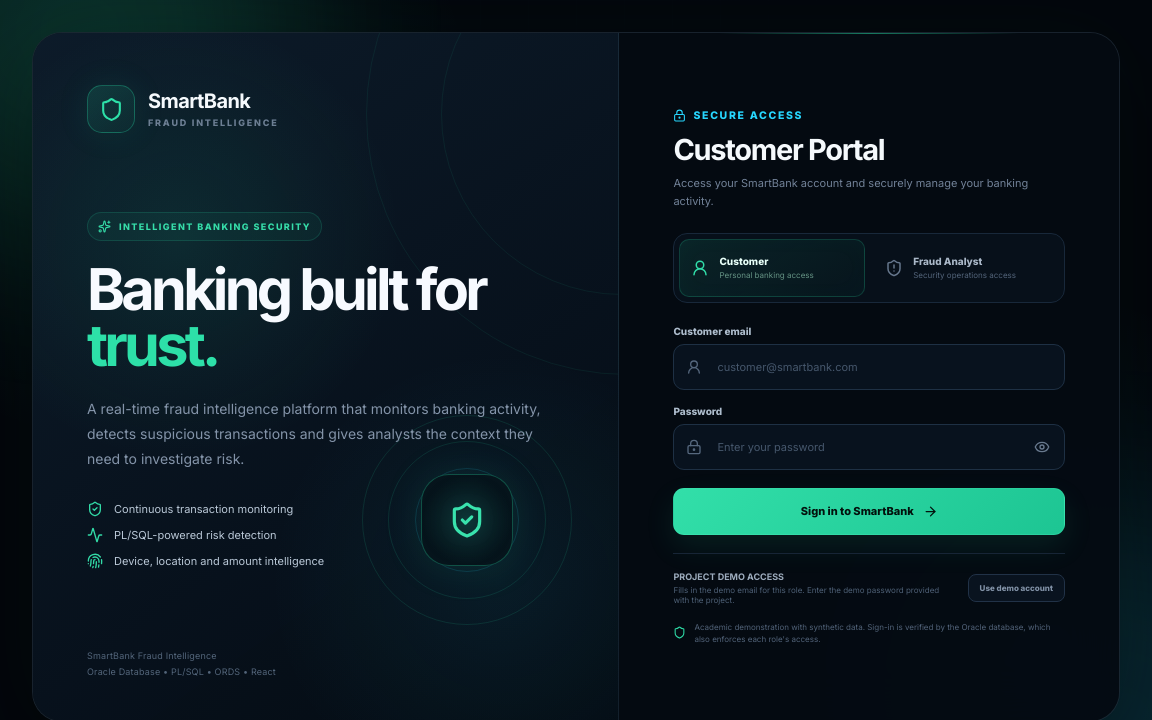
Scenario: older local Oracle API (no /auth endpoints) › does not fall back when the local API is down
Type "user@smartbank.com" into the field labelled "Customer email" at point(869, 367), box [673,344,1065,390]
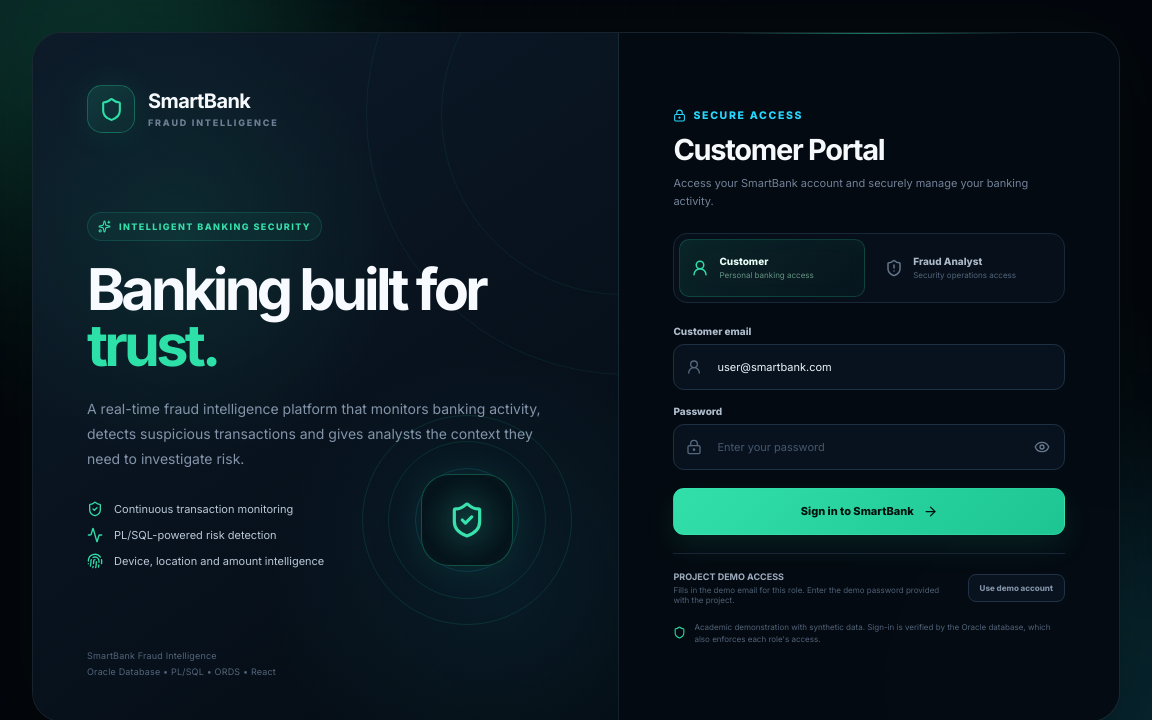
Type "anything" into the password field labelled "Password" at point(869, 447), box [673,424,1065,470]
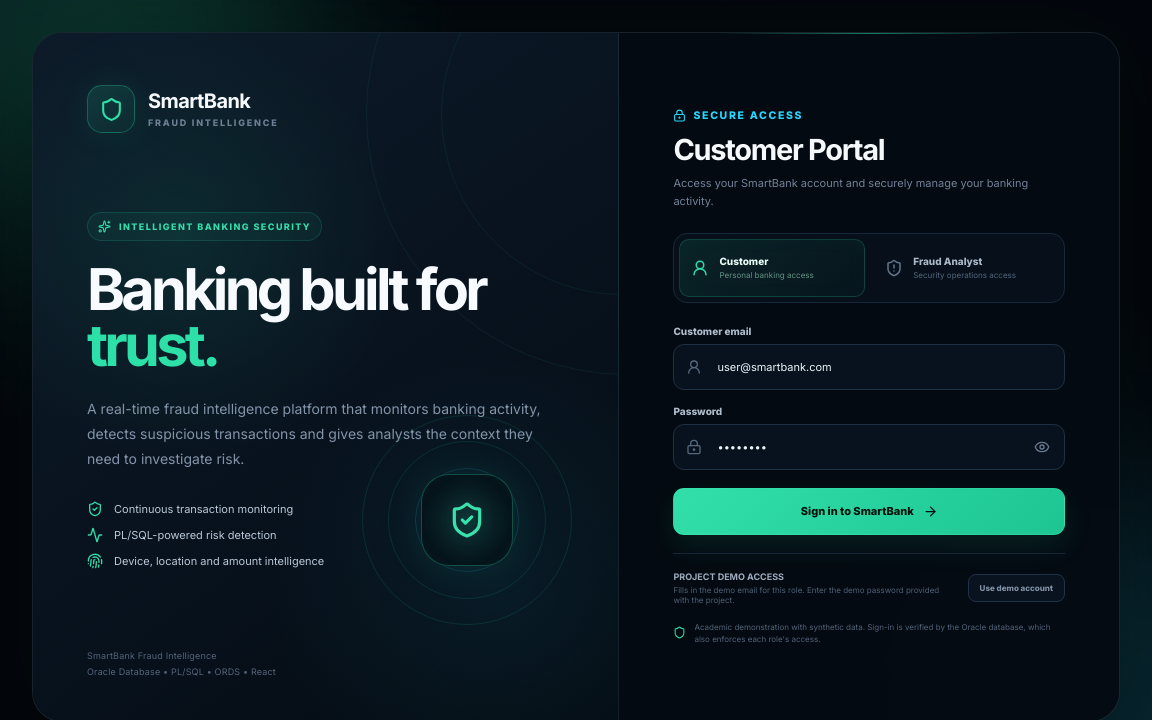
Click the button "Sign in to SmartBank" at point(869, 511), box [673,488,1065,535]
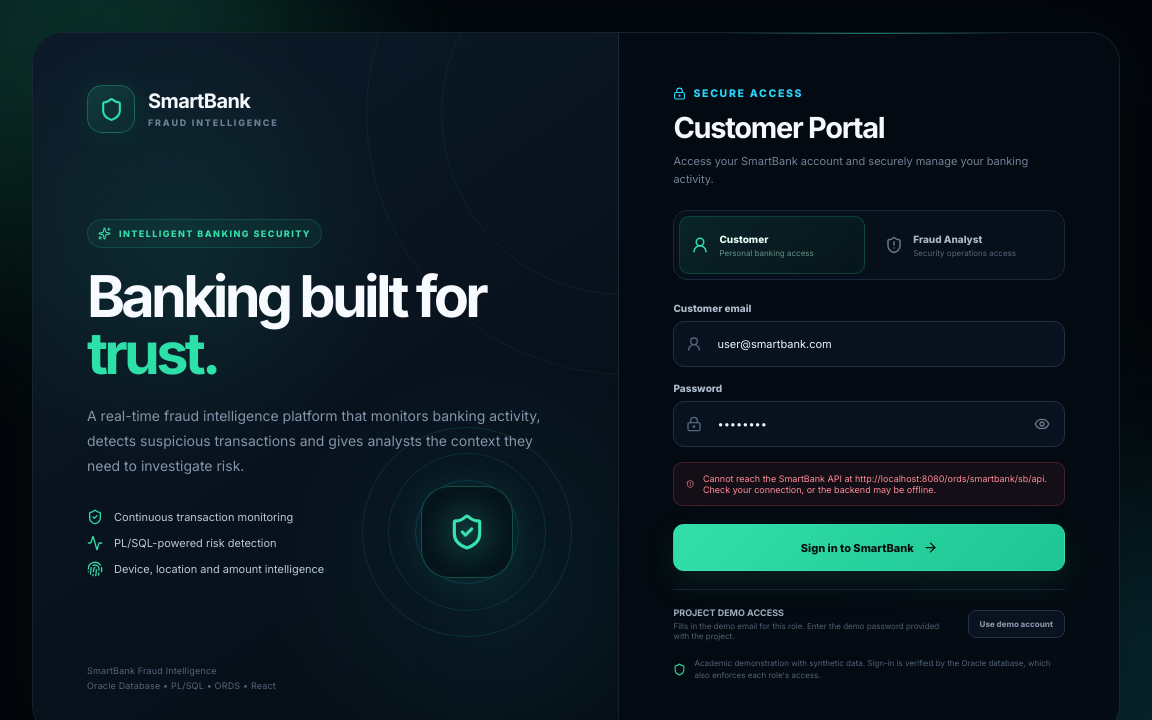
Expected: the text "Cannot reach the SmartBank API" is shown, [703,473,1047,495]
